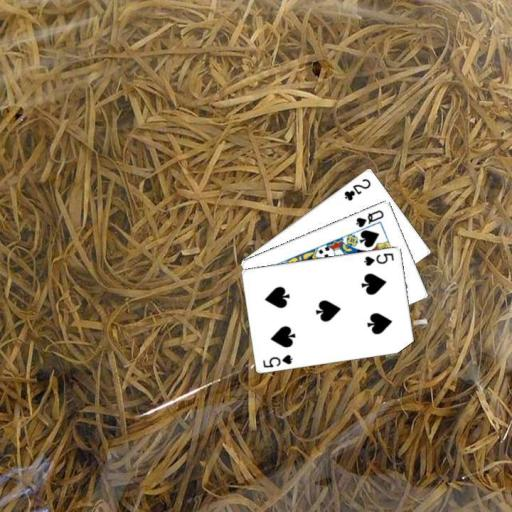2C: (341, 175, 373, 202)
5S: (261, 351, 295, 369), (362, 250, 396, 267)
QS: (353, 206, 385, 228)
